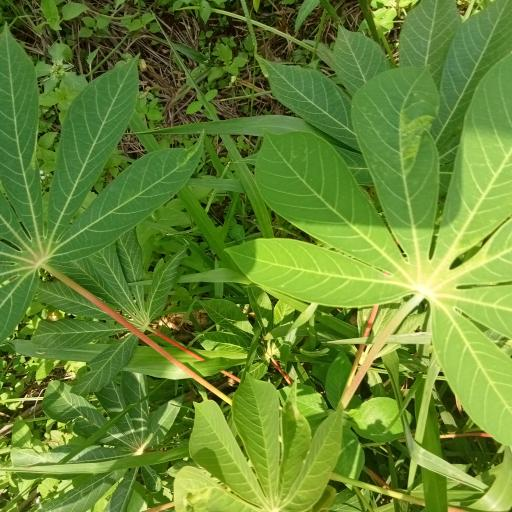Cassava_Healthy: (242, 66, 512, 452), (0, 29, 199, 357), (191, 379, 344, 512)
